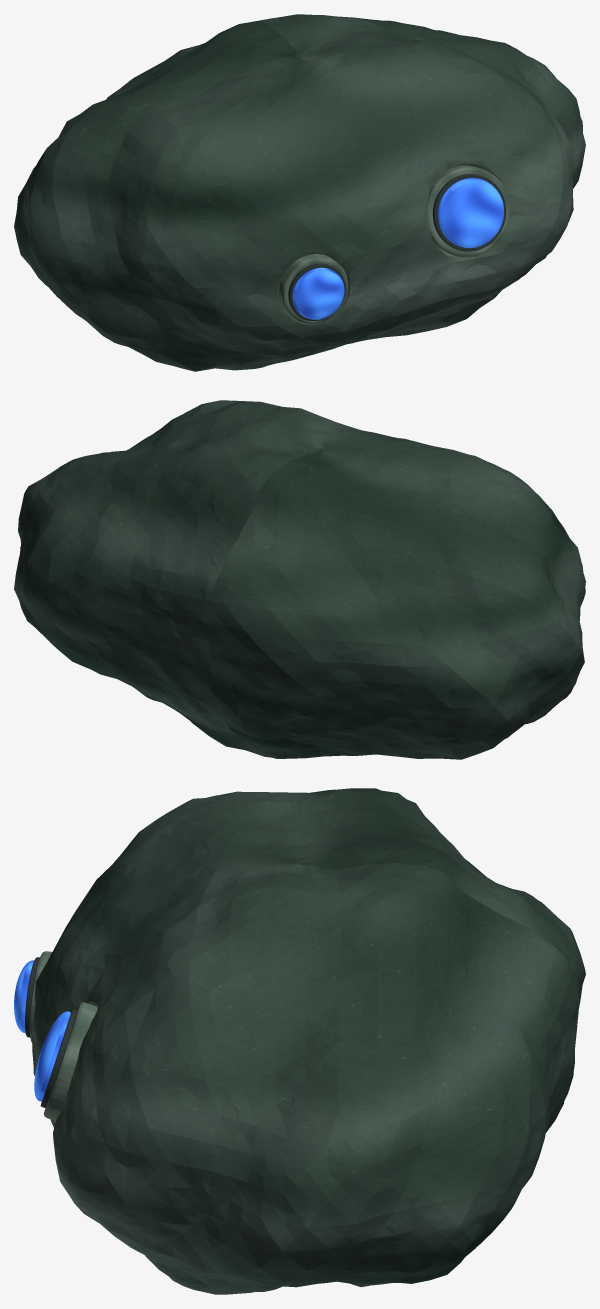
The picture shows the model from 3 angles, top to bottom: view 1: azimuth 30°, elevation 25°; view 2: azimuth 150°, elevation 25°; view 3: azimuth 270°, elevation 25°; orthographic projection. The views are drawn at different scales.
Visible parts, largest first — view 1: Low continuous oval mineral body, Blue lens 1, Blue lens 0, Lens 1 worn alloy seating, Lens 0 worn alloy seating, Lens 1 dark recessed seal, Lens 0 dark recessed seal; view 2: Low continuous oval mineral body; view 3: Low continuous oval mineral body, Lens 1 worn alloy seating, Blue lens 1, Blue lens 0, Lens 1 dark recessed seal.
Boxes of the visible parts, x1,y1,x2,y2 form: Low continuous oval mineral body: (14, 14, 585, 371); Blue lens 1: (438, 178, 503, 248); Blue lens 0: (292, 267, 344, 319); Lens 1 worn alloy seating: (427, 165, 510, 257); Lens 0 worn alloy seating: (279, 254, 348, 323); Lens 1 dark recessed seal: (432, 173, 506, 251); Lens 0 dark recessed seal: (288, 263, 345, 320); Low continuous oval mineral body: (14, 400, 585, 759); Low continuous oval mineral body: (32, 788, 585, 1294); Lens 1 worn alloy seating: (44, 1002, 97, 1120); Blue lens 1: (34, 1011, 70, 1101); Blue lens 0: (14, 960, 34, 1033); Lens 1 dark recessed seal: (40, 1008, 77, 1107).
Size of the model in its own units: 2.61 by 1.28 by 1.79.
4 materials, 3 textured.
